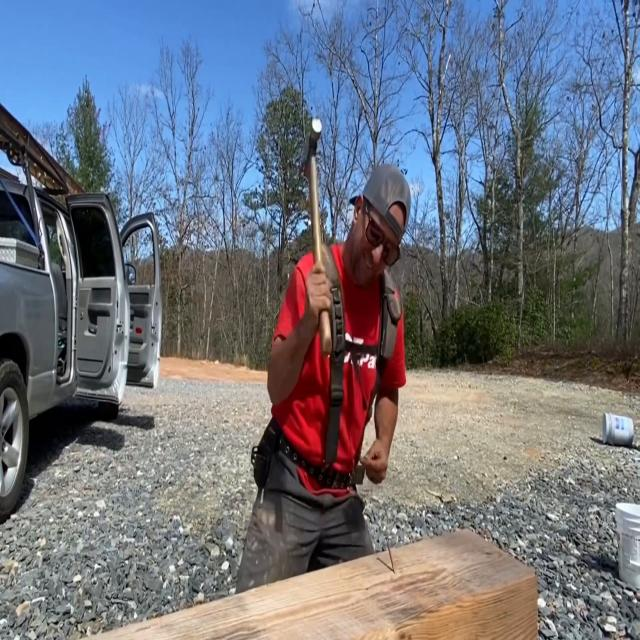hammer: (298, 113, 336, 356)
